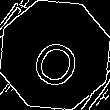O_NE: (24, 22, 86, 88)
